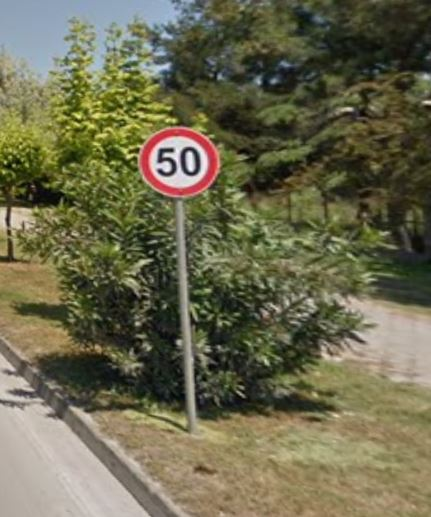50 Km Hiz Siniri: (140, 125, 221, 202)
